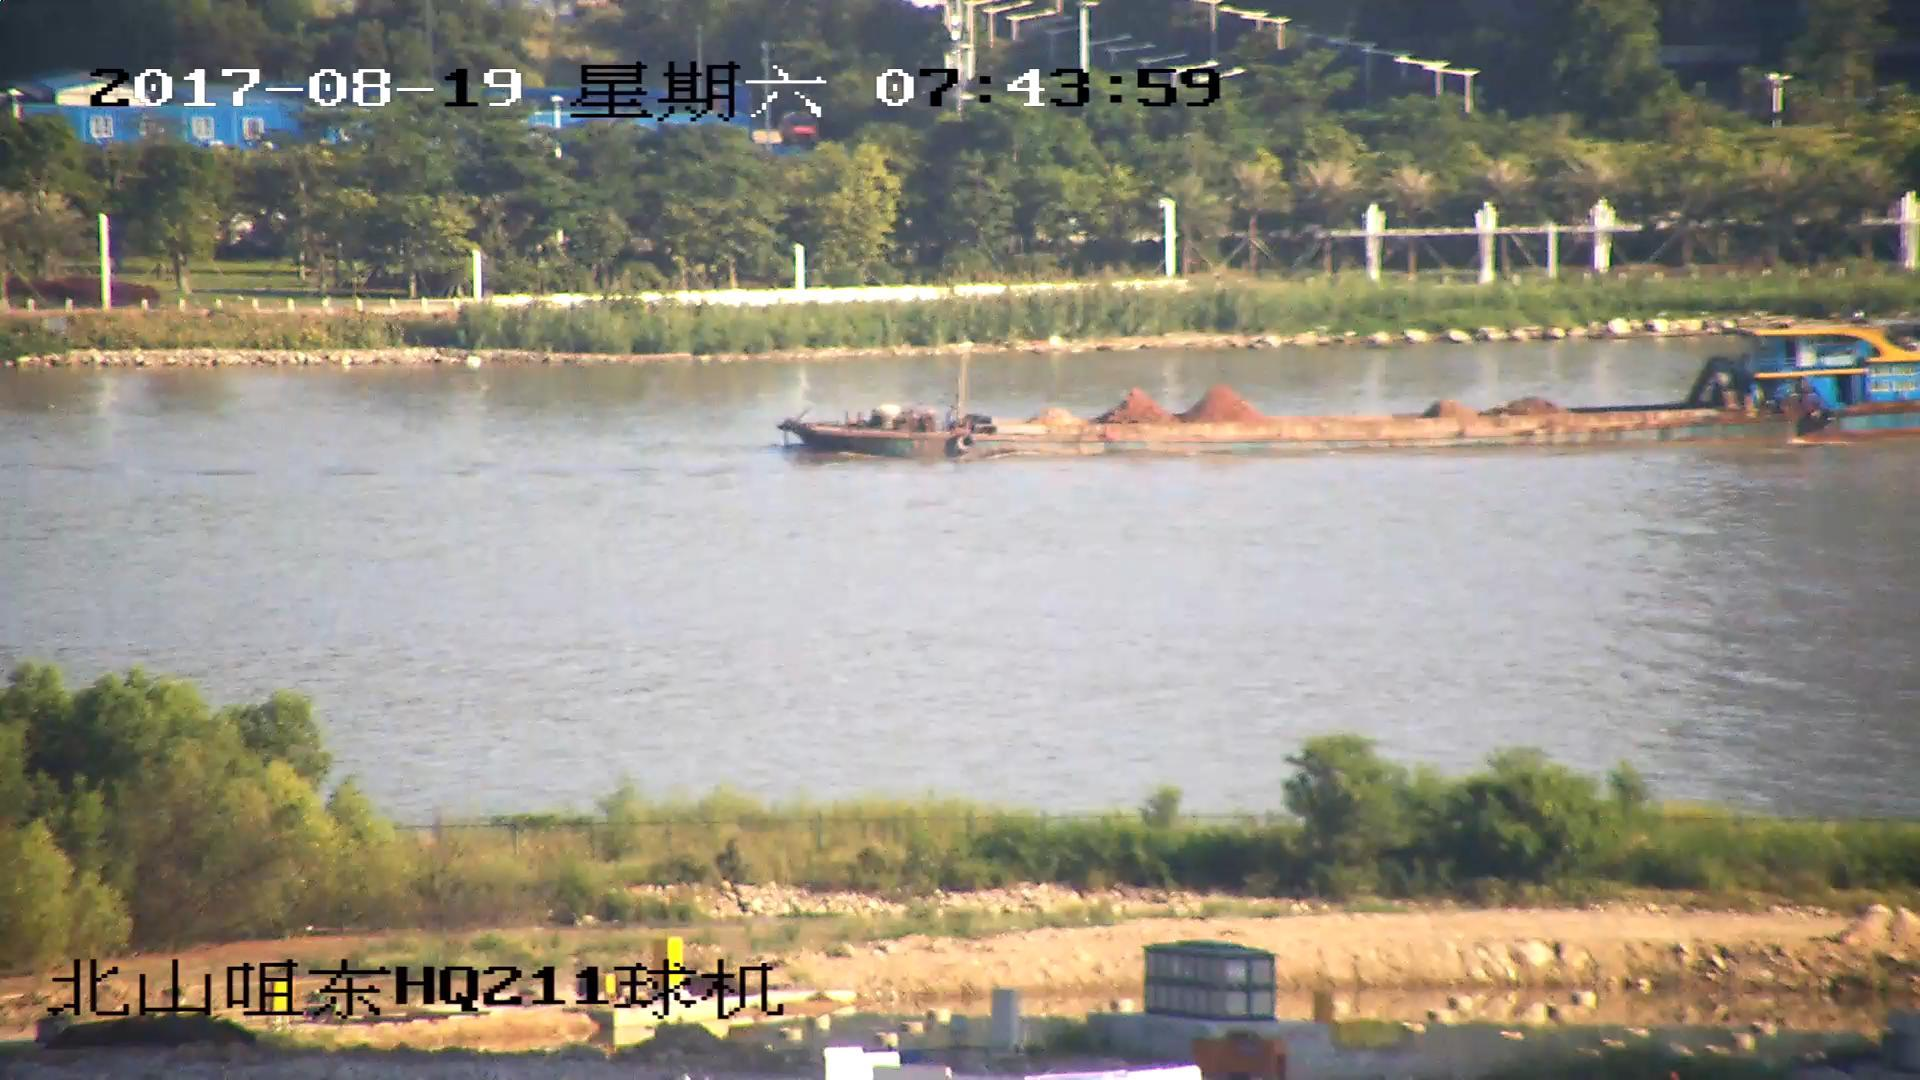Ship: (781, 323, 1920, 462)
